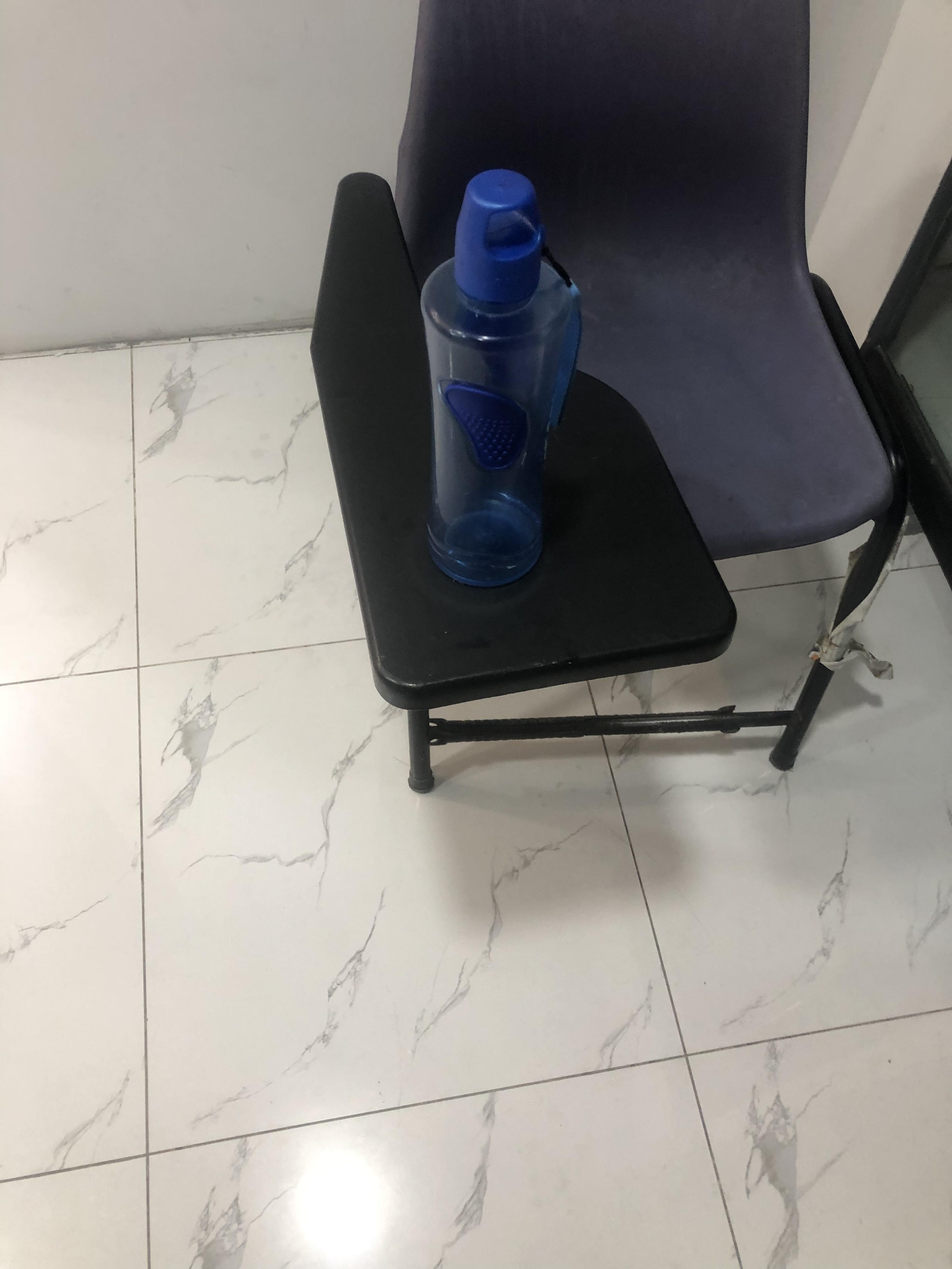gym bottle: (412, 160, 600, 590)
